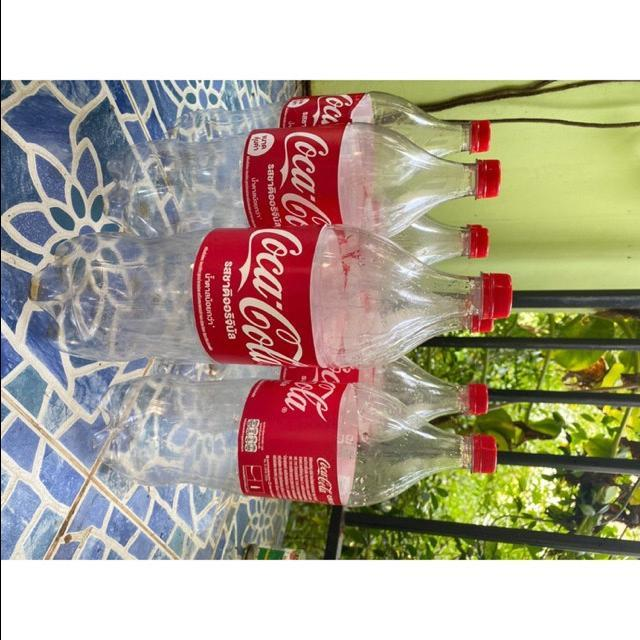PET Bottle: (36, 206, 525, 378), (84, 362, 500, 558), (100, 78, 520, 238), (94, 342, 500, 444)
